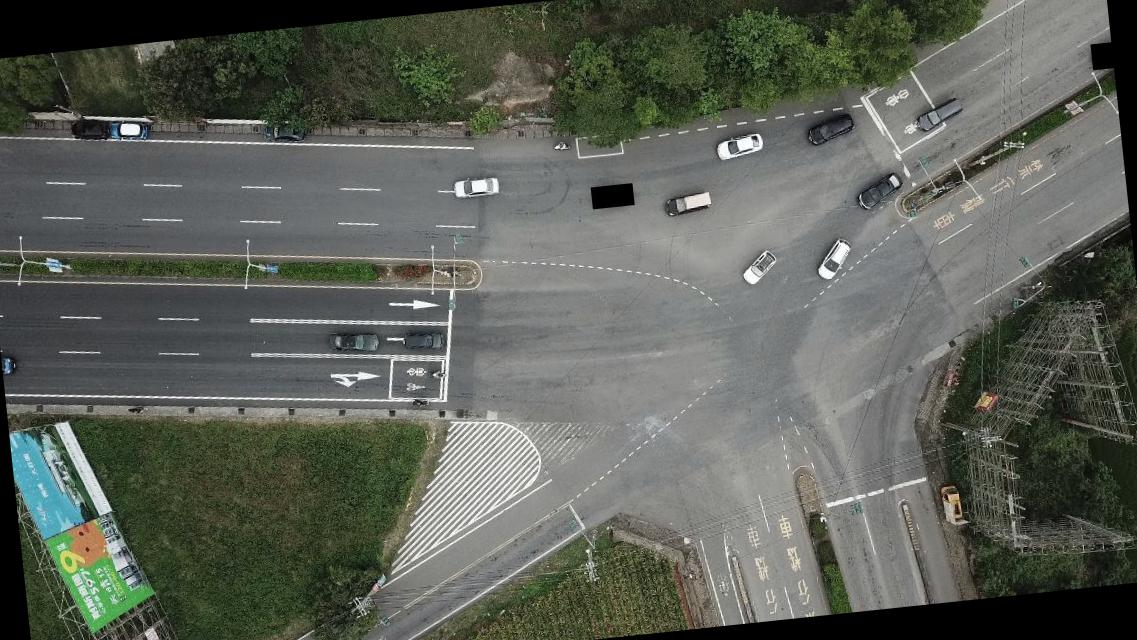vehicle: (854, 172, 904, 212), (915, 95, 966, 134), (805, 111, 856, 148), (814, 237, 854, 284), (738, 246, 781, 288), (713, 132, 766, 162), (452, 170, 501, 202), (328, 324, 379, 354), (662, 190, 714, 218), (260, 119, 309, 146), (66, 115, 113, 142), (107, 118, 151, 145), (400, 326, 445, 352), (937, 483, 964, 526)
